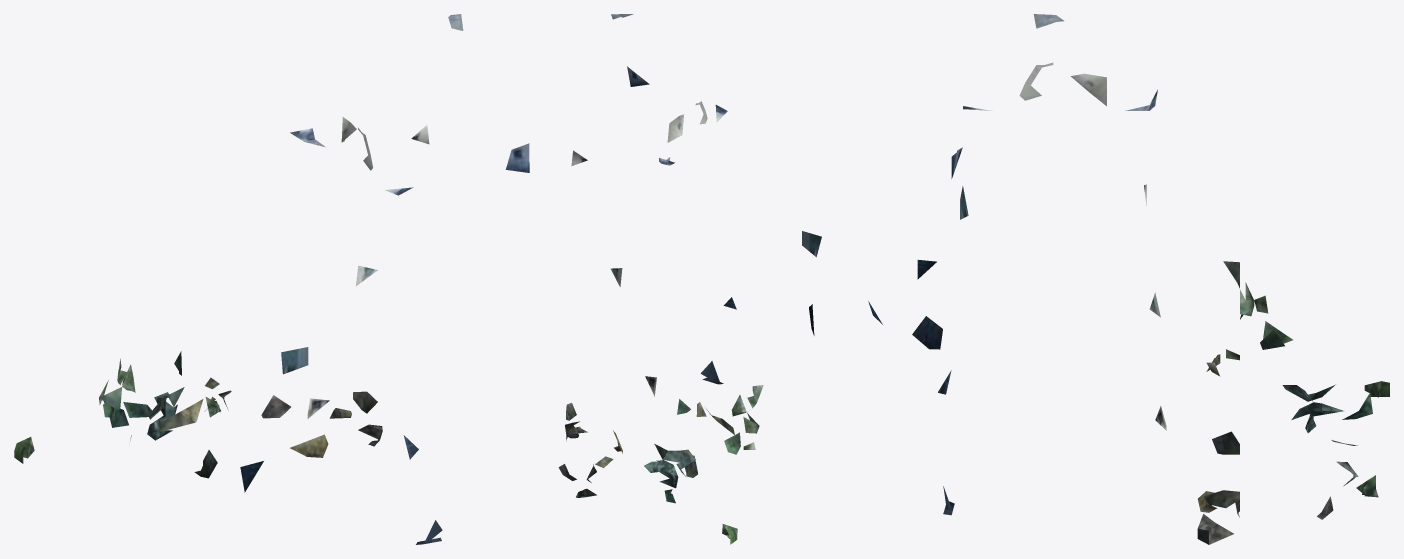
The picture shows the model from 3 angles, left to right: view 1: azimuth 30°, elevation 25°; view 2: azimuth 150°, elevation 25°; view 3: azimuth 270°, elevation 25°; orthographic projection. The views are drawn at different scales.
Parts seen in each view (by area): view 1: 30436272704370607437_1; view 2: 30436272704370607437_1; view 3: 30436272704370607437_1.
Boxes of the visible parts, x1,y1,x2,y2 form: 30436272704370607437_1: (14, 14, 529, 544); 30436272704370607437_1: (558, 14, 882, 544); 30436272704370607437_1: (912, 14, 1389, 544).
Size of the model in its own units: 22.7 by 32.36 by 26.07.
1 material, 1 textured.
